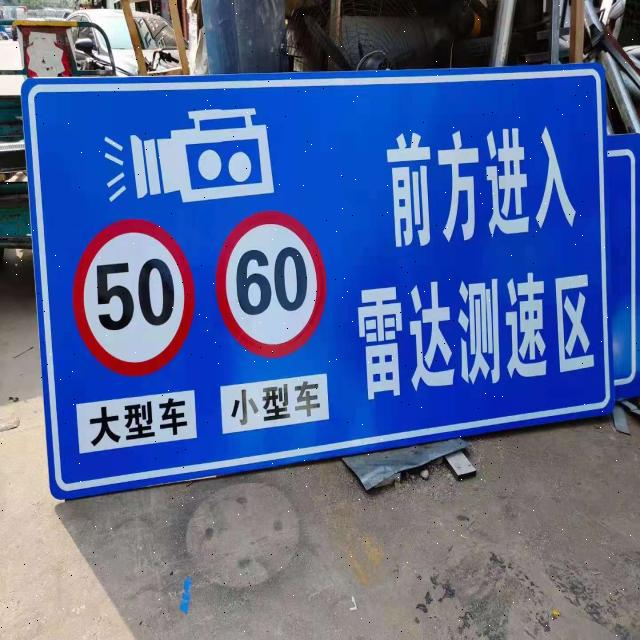speed limit 50: (73, 220, 194, 376)
speed limit 60: (216, 211, 327, 356)
